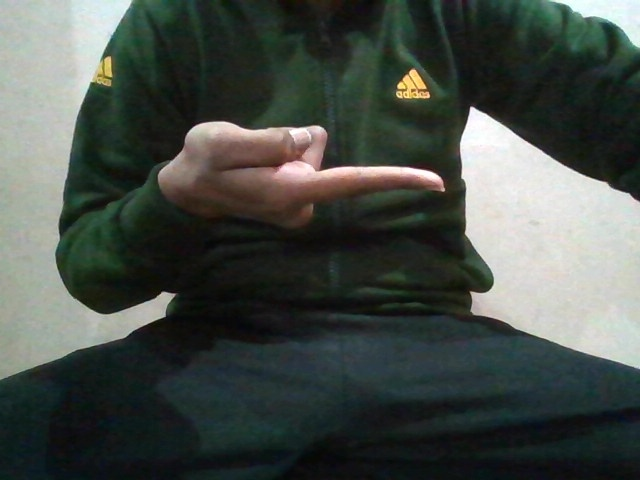X: (183, 117, 465, 244)
